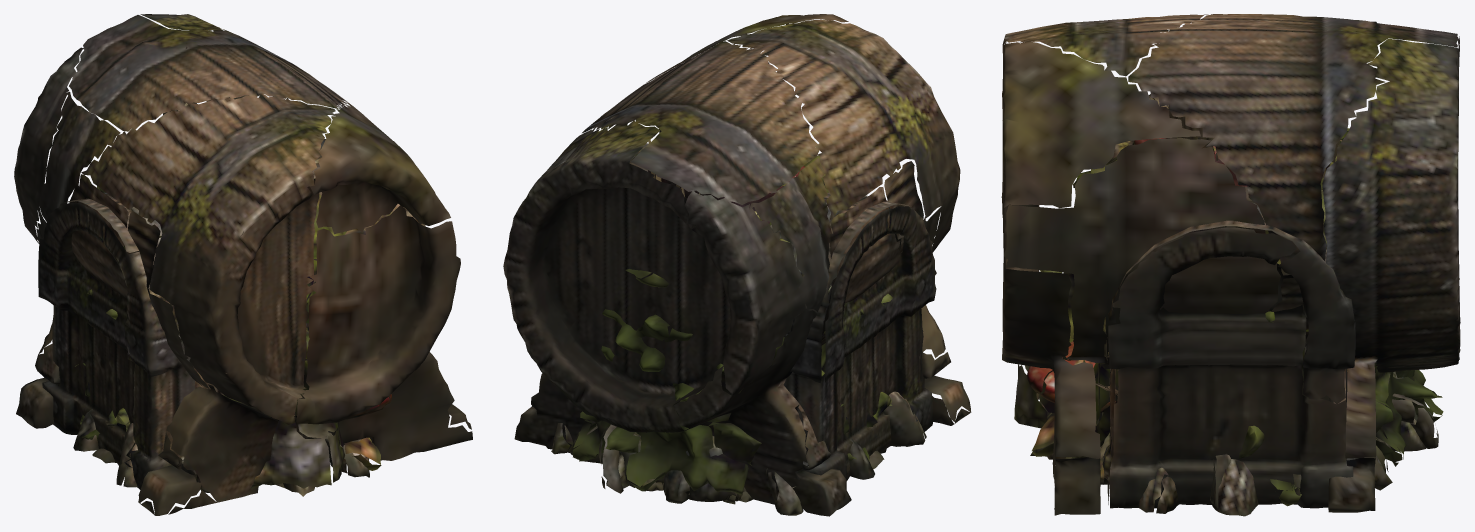
The model's file is street-props.glb.
The picture shows the model from 3 angles, left to right: view 1: azimuth 30°, elevation 25°; view 2: azimuth 150°, elevation 25°; view 3: azimuth 270°, elevation 25°; orthographic projection. The views are drawn at different scales.
Visible parts, largest first — view 1: barrel_rack, chest, bush_green, stump_mushroom, stump; view 2: barrel_rack, chest, bush_green, stump_mushroom, stump, stump_broken, ritual_stump; view 3: barrel_rack, chest, bush_green, stump_mushroom, stump, ritual_stump.
Part boxes in pixels (left/top/right/bottom): barrel_rack: left=14, top=14, right=472, bottom=515; chest: left=38, top=139, right=425, bottom=489; bush_green: left=75, top=174, right=381, bottom=488; stump_mushroom: left=92, top=394, right=391, bottom=496; stump: left=73, top=409, right=369, bottom=492; barrel_rack: left=503, top=14, right=971, bottom=516; chest: left=532, top=143, right=936, bottom=480; bush_green: left=572, top=155, right=892, bottom=495; stump_mushroom: left=551, top=391, right=926, bottom=515; stump: left=598, top=432, right=874, bottom=504; stump_broken: left=570, top=139, right=731, bottom=501; ritual_stump: left=573, top=109, right=804, bottom=501; barrel_rack: left=1001, top=14, right=1460, bottom=515; chest: left=1103, top=94, right=1358, bottom=508; bush_green: left=1014, top=128, right=1443, bottom=506; stump_mushroom: left=1026, top=341, right=1438, bottom=516; stump: left=1030, top=371, right=1426, bottom=508; ritual_stump: left=1047, top=30, right=1393, bottom=472.
Bounding box in the file's own units: 2.2 × 2.31 × 2.4.
1 material, 1 textured.
